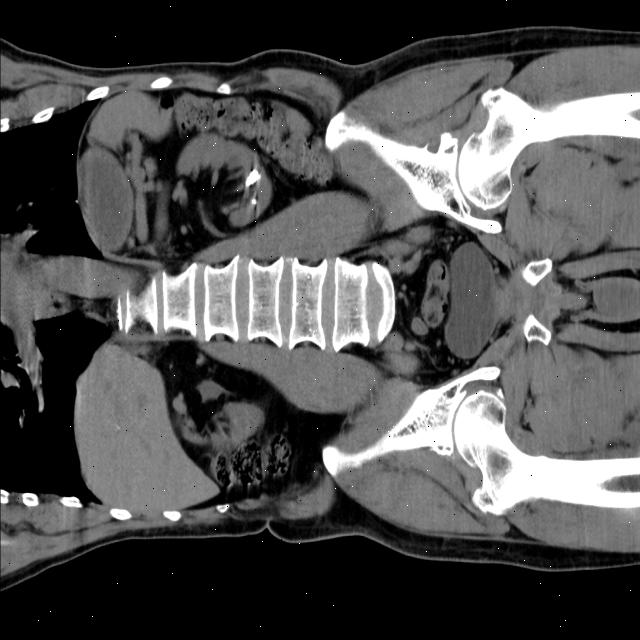kidneystone: (245, 167, 261, 187)
